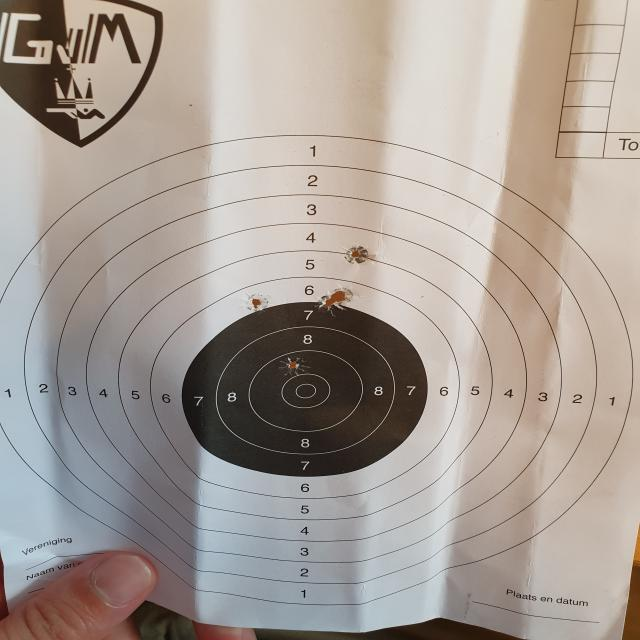5: (341, 245, 376, 265)
6: (330, 284, 357, 307), (244, 293, 274, 312)
7: (314, 293, 336, 314)
9: (280, 356, 312, 378)
Target: (0, 136, 640, 608)
black_contour: (181, 300, 429, 477)
